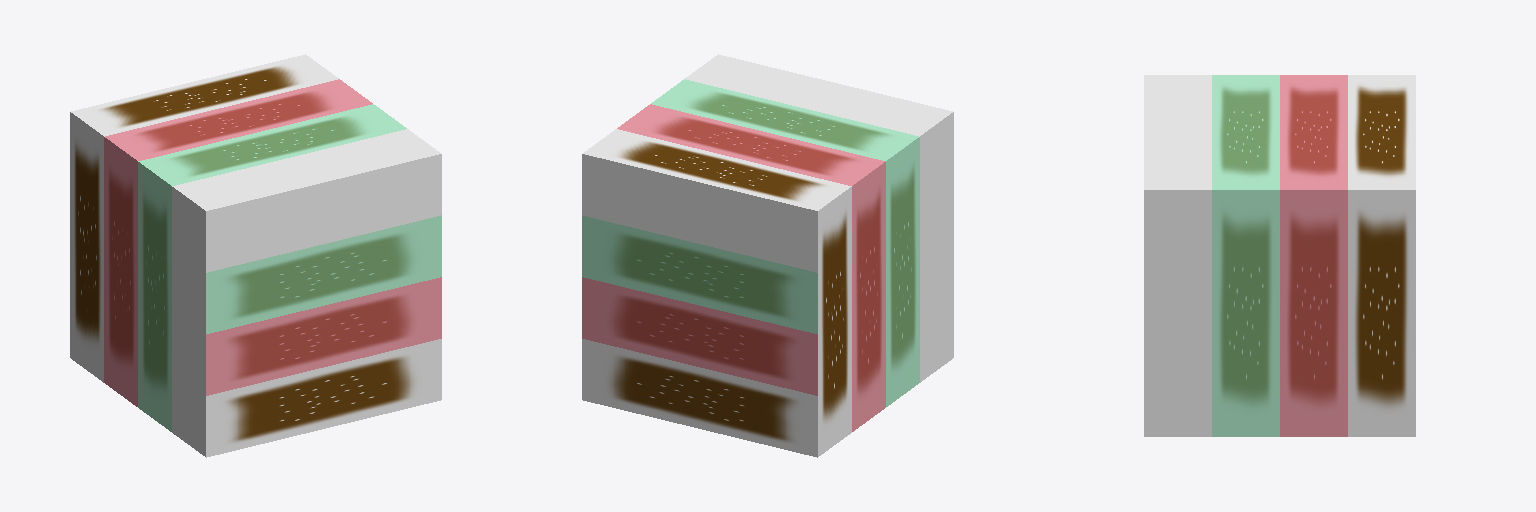
3 views of the same model, side by side, from view 1: azimuth 30°, elevation 25°; view 2: azimuth 150°, elevation 25°; view 3: azimuth 270°, elevation 25° (orthographic).
Parts seen in each view (by area): view 1: Cube; view 2: Cube; view 3: Cube.
Boxes of the visible parts, box(x1,y1,x2,y2) form: Cube: box(70, 54, 441, 457); Cube: box(582, 54, 953, 457); Cube: box(1144, 75, 1415, 436).
Bounding box in the file's own units: 2 × 2 × 2.
1 materials, 1 textured.